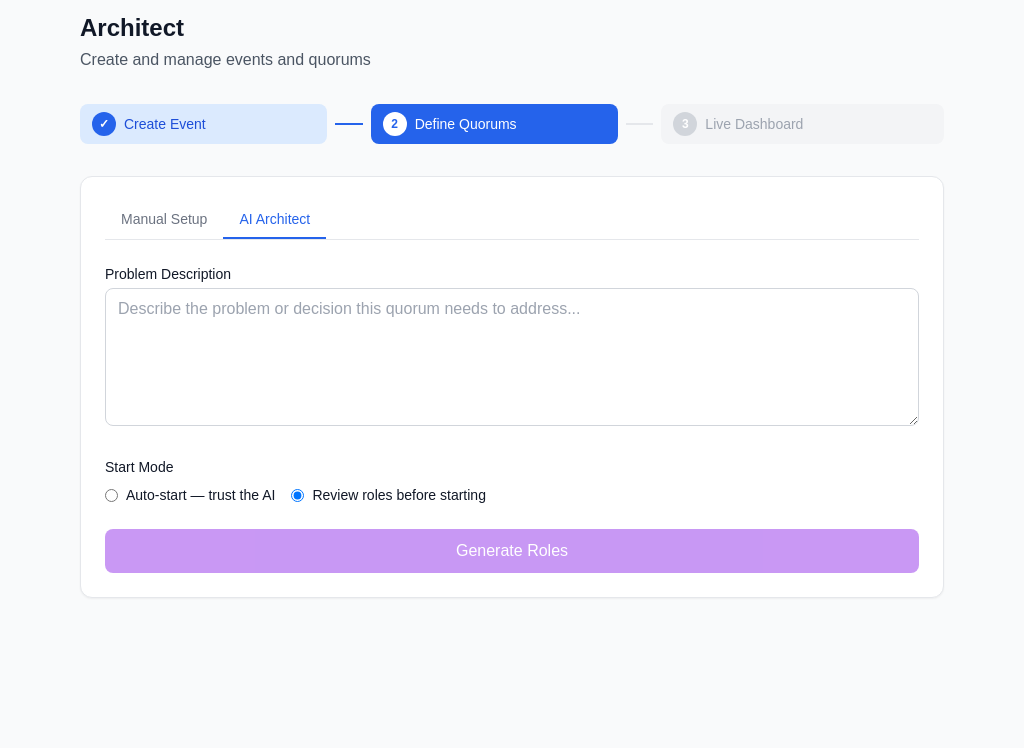
Test case: AI Architect Panel › shows Approve & Start button in approved mode
Type "Test problem" into the text box with placeholder "Describe the problem" at (512, 357), box x1=105 y1=288 x2=919 y2=426
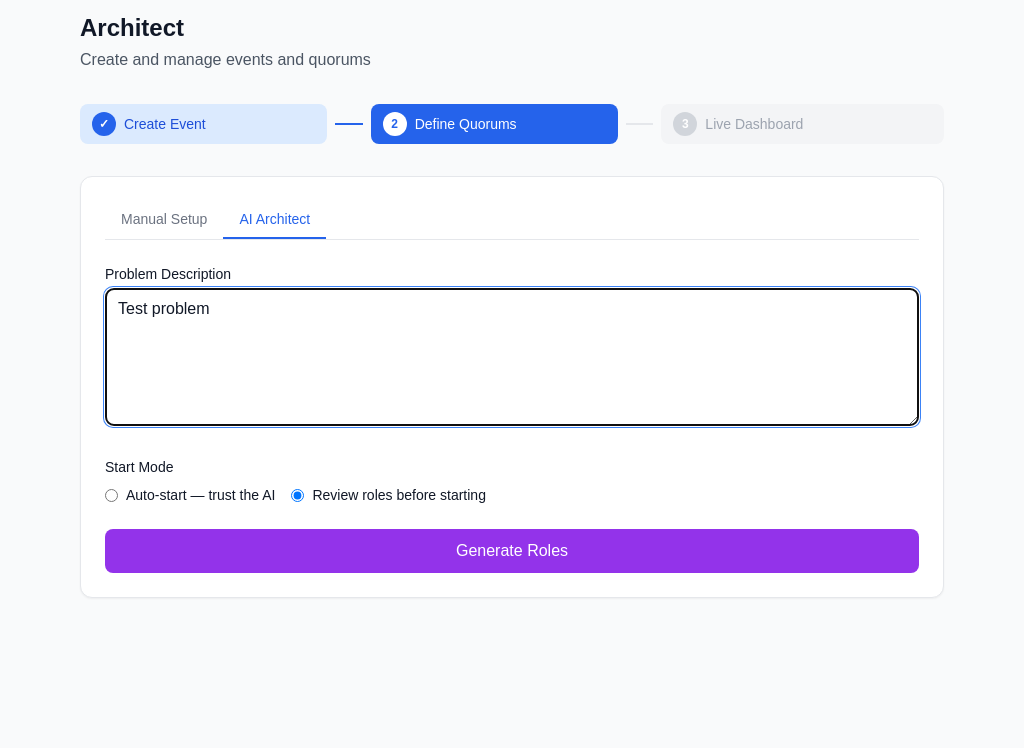
Click the button "Generate Roles" at (512, 551), box x1=105 y1=529 x2=919 y2=573
(page scrolled)
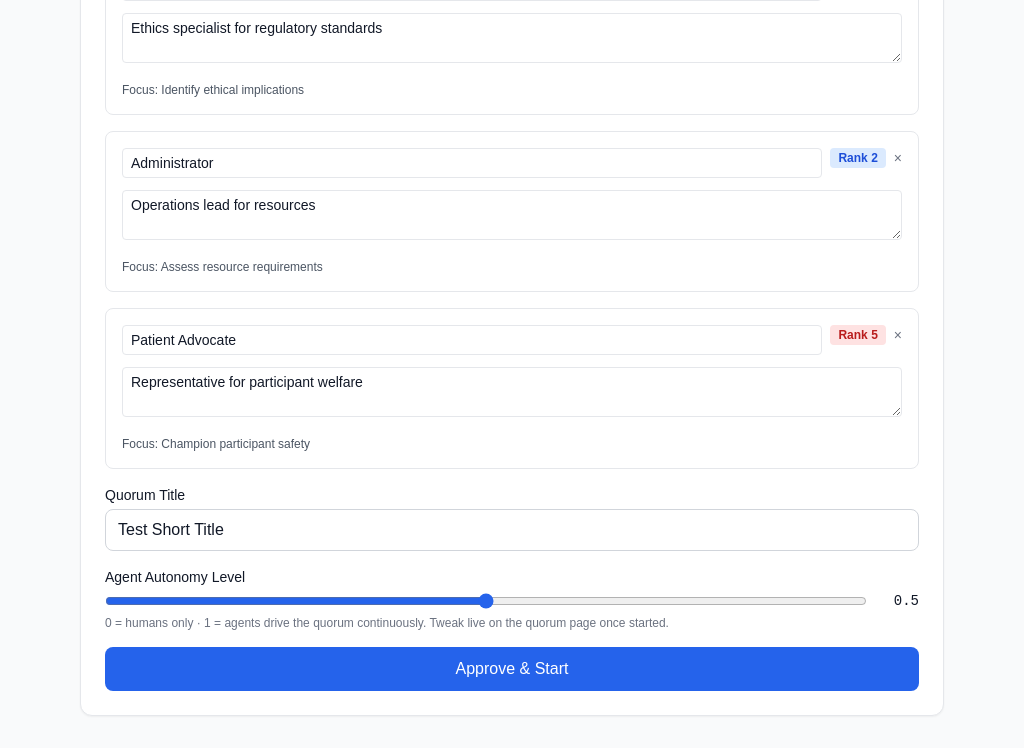
Expected: the button "Approve & Start" is shown, x1=105 y1=647 x2=919 y2=691
